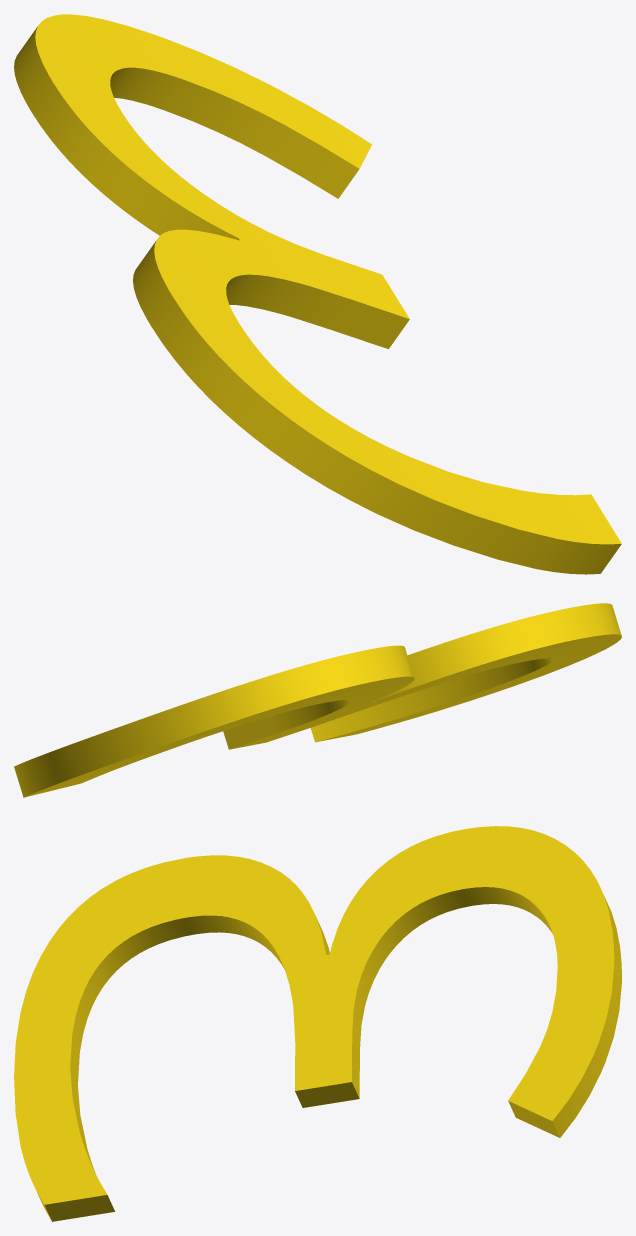
File: Number_3.gltf
The picture shows the model from 3 angles, top to bottom: view 1: azimuth 30°, elevation 25°; view 2: azimuth 150°, elevation 25°; view 3: azimuth 270°, elevation 25°; orthographic projection. The views are drawn at different scales.
Parts seen in each view (by area): view 1: Sub_8_Cell_2_2_Number_3; view 2: Sub_8_Cell_2_2_Number_3; view 3: Sub_8_Cell_2_2_Number_3.
Part boxes in pixels (<box>): Sub_8_Cell_2_2_Number_3: <box>14,14,621,574</box>; Sub_8_Cell_2_2_Number_3: <box>14,603,621,797</box>; Sub_8_Cell_2_2_Number_3: <box>14,826,621,1221</box>.
Size of the model in its own units: 0.017 by 0.0134 by 0.0253.
